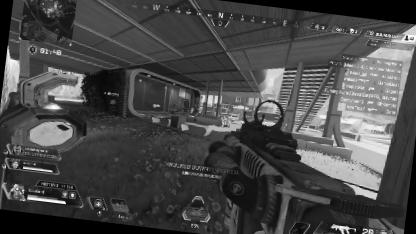Target: (188, 106, 194, 114)
